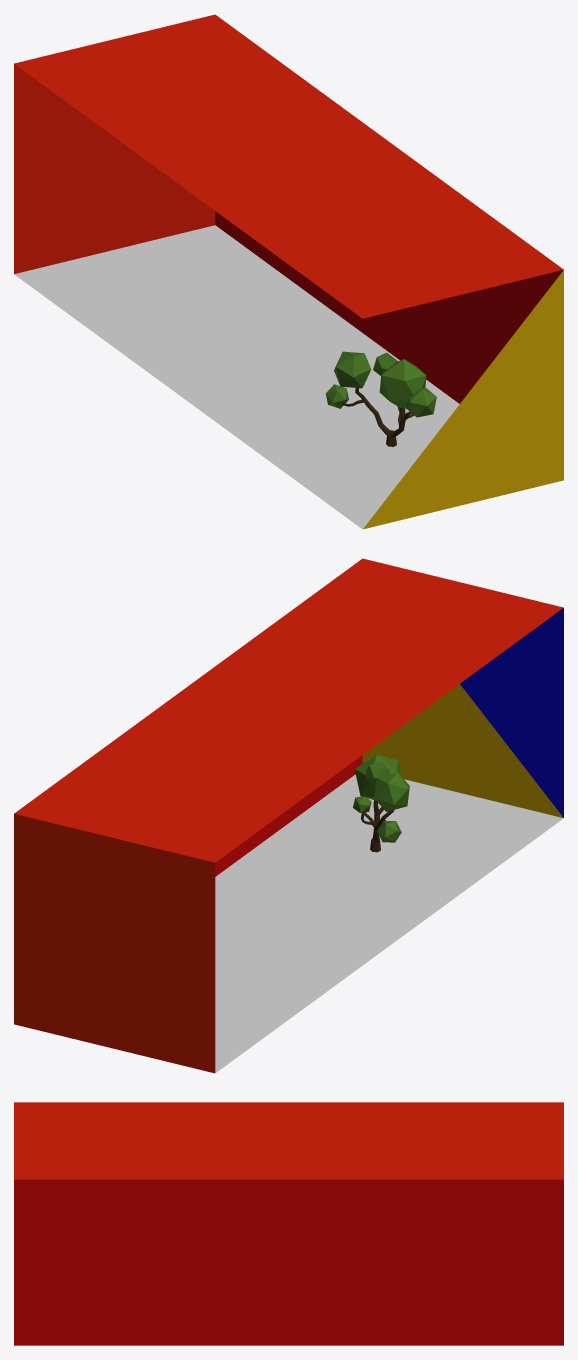
Rendered from caja.obj.
The picture shows the model from 3 angles, top to bottom: view 1: azimuth 30°, elevation 25°; view 2: azimuth 150°, elevation 25°; view 3: azimuth 270°, elevation 25°; orthographic projection. The views are drawn at different scales.
Visible parts, largest first — view 1: Cube.001, Tree_lp_11; view 2: Cube.001, Tree_lp_11; view 3: Cube.001.
Boxes of the visible parts, box(x1,y1,x2,y2) form: Cube.001: box(14, 14, 563, 529); Tree_lp_11: box(326, 351, 436, 446); Cube.001: box(14, 558, 563, 1073); Tree_lp_11: box(353, 754, 409, 852); Cube.001: box(14, 1102, 563, 1345).
Bounding box in the file's own units: 2 × 2.01 × 6.
